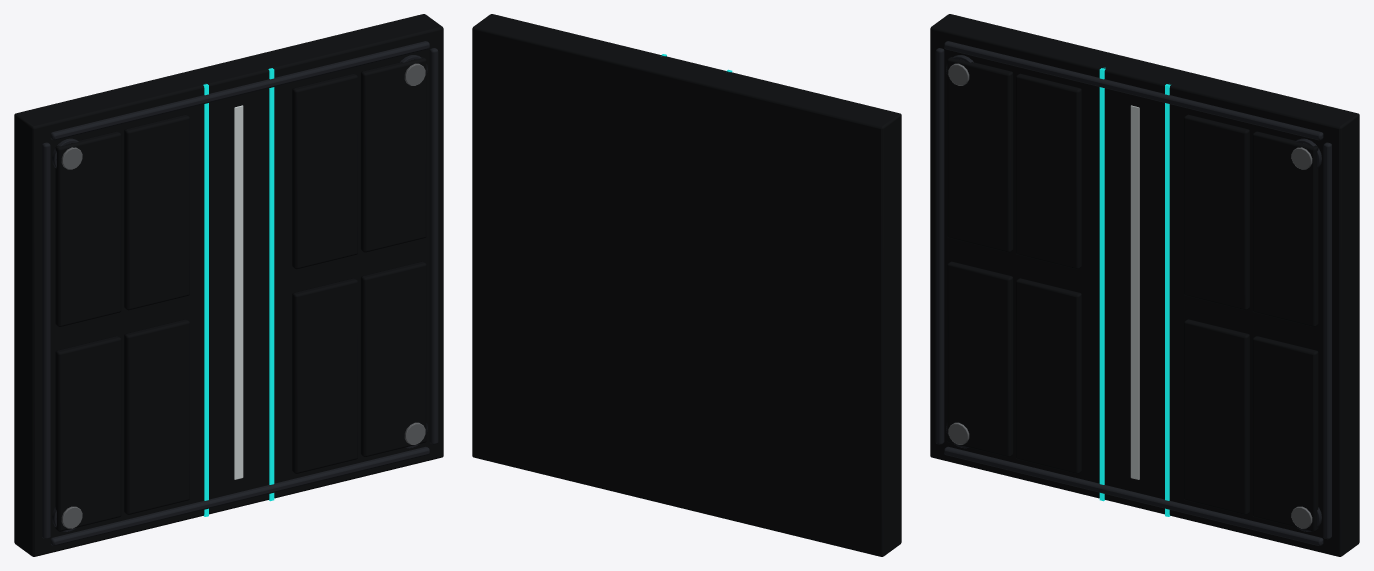
Rendered from wall_panel.glb.
The picture shows the model from 3 angles, left to right: view 1: azimuth 30°, elevation 25°; view 2: azimuth 150°, elevation 25°; view 3: azimuth 330°, elevation 25°; orthographic projection.
Parts seen in each view (by area): view 1: Panel, Fiber, Inlay, Bolts; view 2: Panel; view 3: Panel, Fiber, Inlay, Bolts.
Boxes of the visible parts, left/top/right/bottom form: Panel: left=14, top=14, right=443, bottom=556; Fiber: left=203, top=68, right=274, bottom=516; Inlay: left=234, top=105, right=243, bottom=479; Bolts: left=52, top=55, right=427, bottom=531; Panel: left=472, top=14, right=901, bottom=556; Panel: left=930, top=14, right=1359, bottom=556; Fiber: left=1099, top=67, right=1170, bottom=516; Inlay: left=1130, top=105, right=1139, bottom=479; Bolts: left=946, top=55, right=1321, bottom=531.
Bounding box in the file's own units: 1.2 × 1.2 × 0.128.
